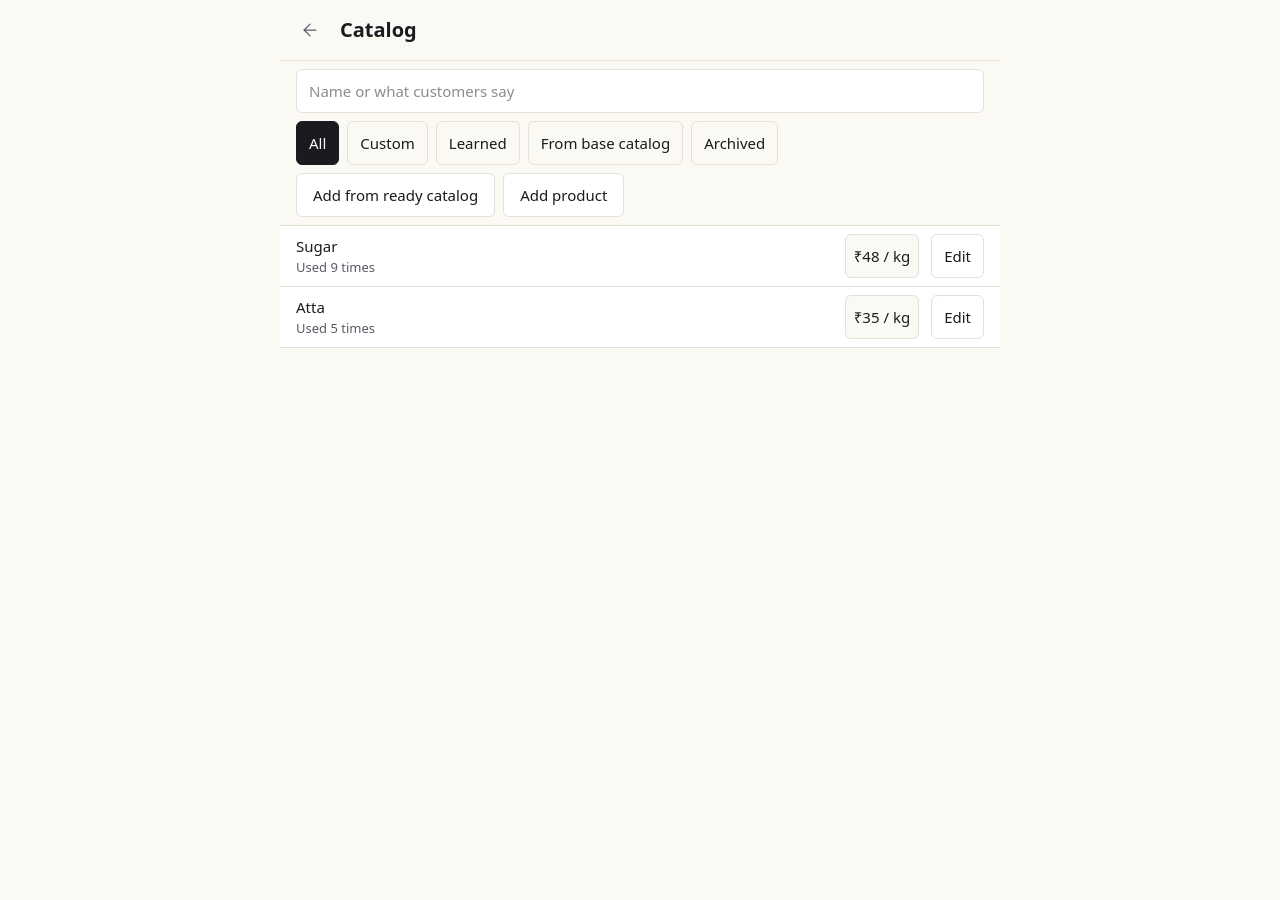
Test case: KB-330 - Edit product: rename and other names › each row has an Edit button; the sheet shows the name, the other names, and the unit as plain text (no unit field)
Expected: the list named "Products" is shown, [280,226,1000,348]
Click the button with aria-label "Edit Sugar" at (958, 256), box [931,234,984,278]
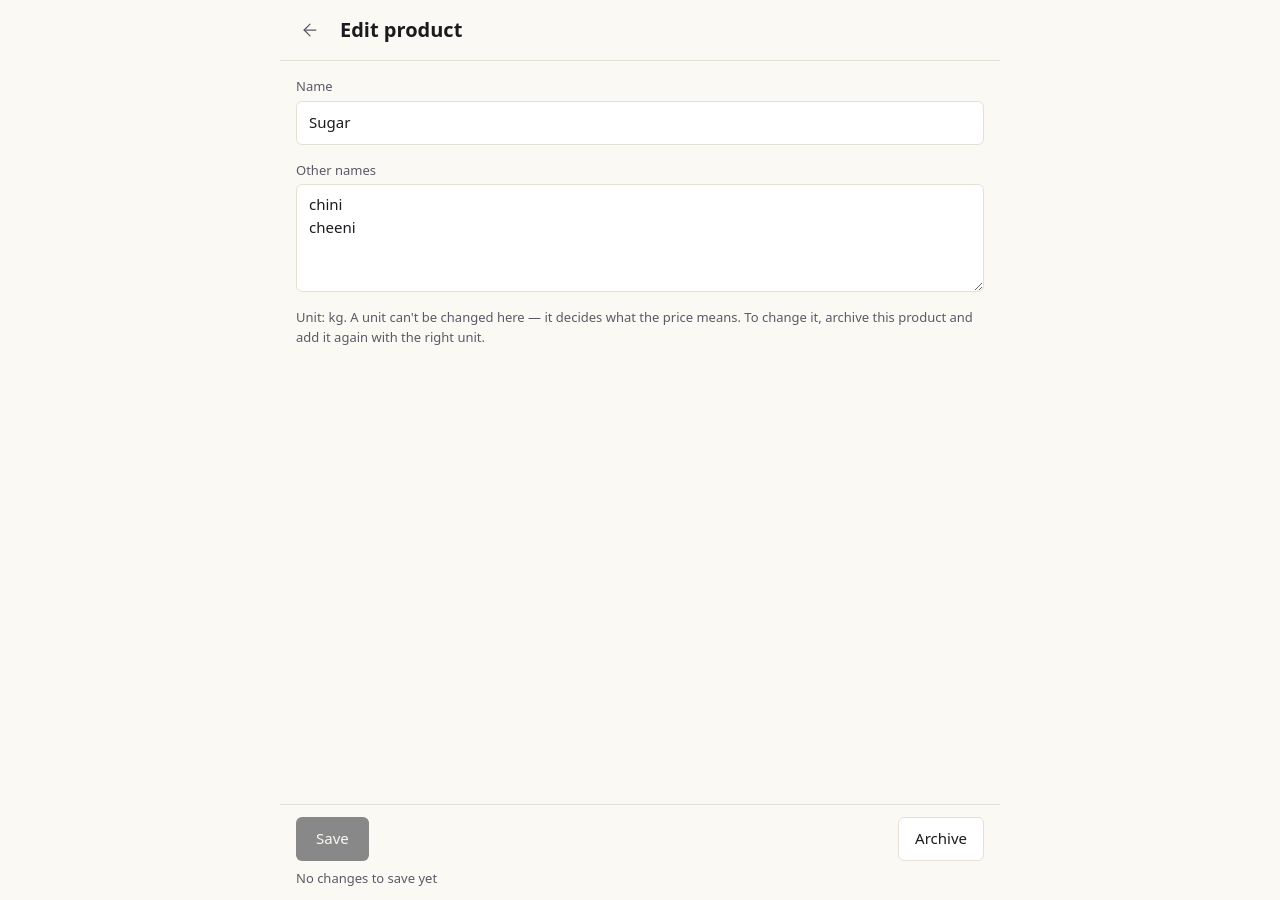
Result: the field labelled "Name" holds "Sugar" at [296,100,984,144]
Result: the text "Unit: kg" is shown at [296,308,973,346]
